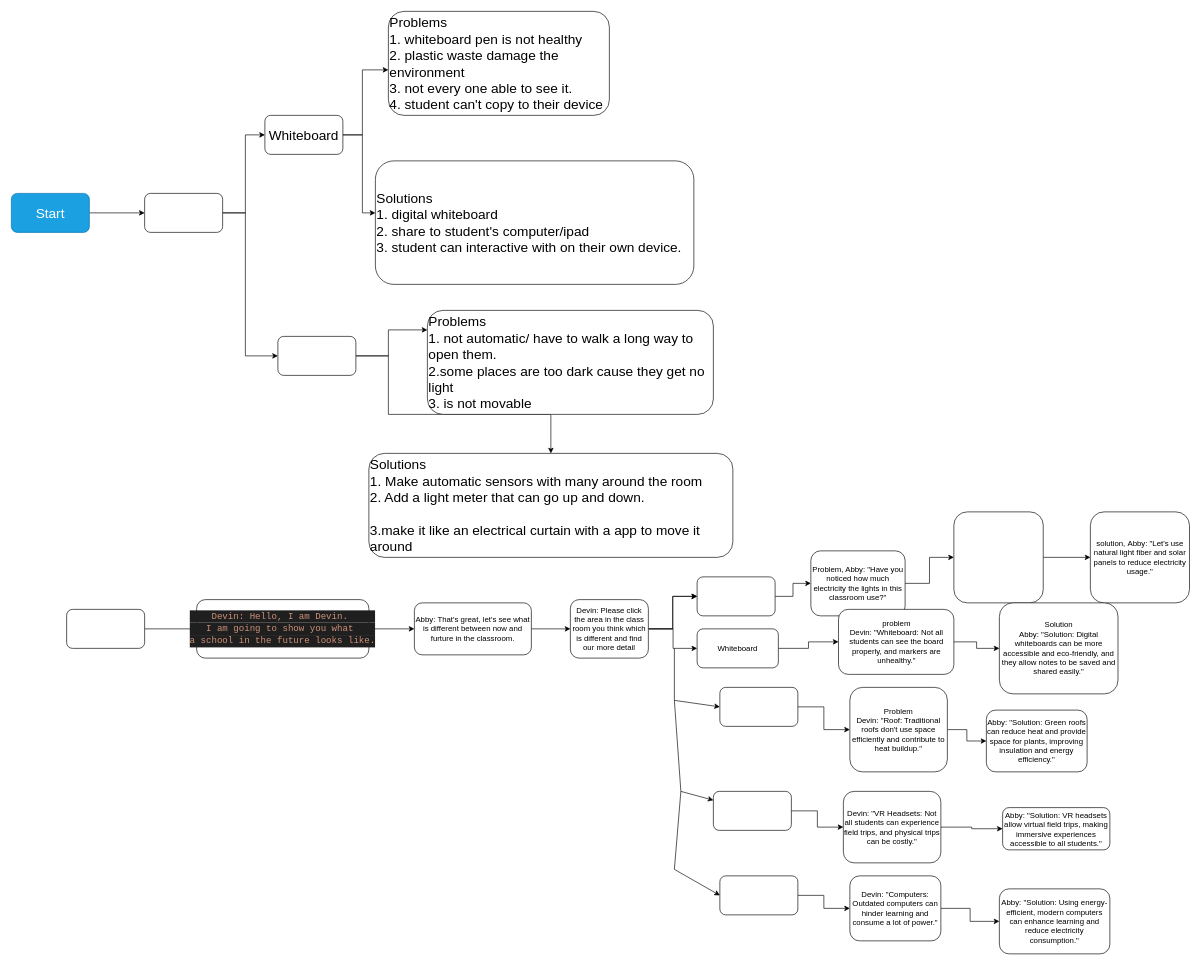
This 1201x965 diagram has some shape labels left out. Here are the shapes that lost their labels. From the top down, the centre of each, then its label:
(183,212): Classroom
(316,355): light ing
(998,557): Solution Devin: "It's not great for the environment. But there are solutions!"
(735,596): lighting
(105,628): Conversation
(758,706): Roof
(752,810): VR Headsets
(758,895): Computrer
